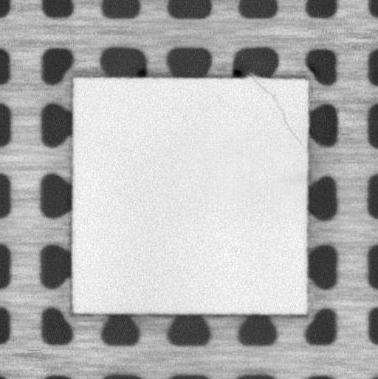DIE_CRACK: (251, 75, 301, 145)
